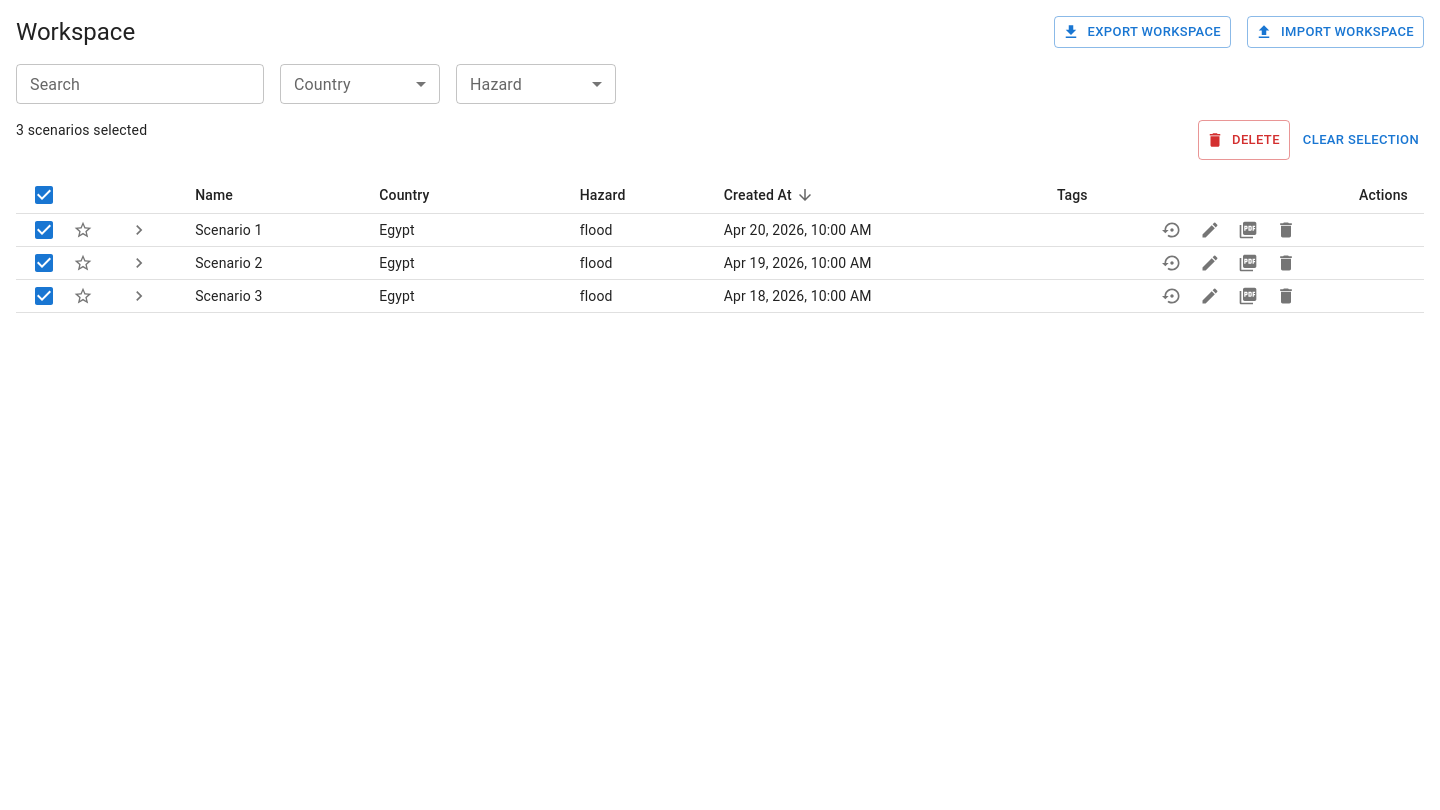
Test: Workspace bulk delete › cancel closes the dialog without firing any deletes
Click the button with aria-label "bulk-delete-open" at (1244, 140), box [1198,120,1290,160]
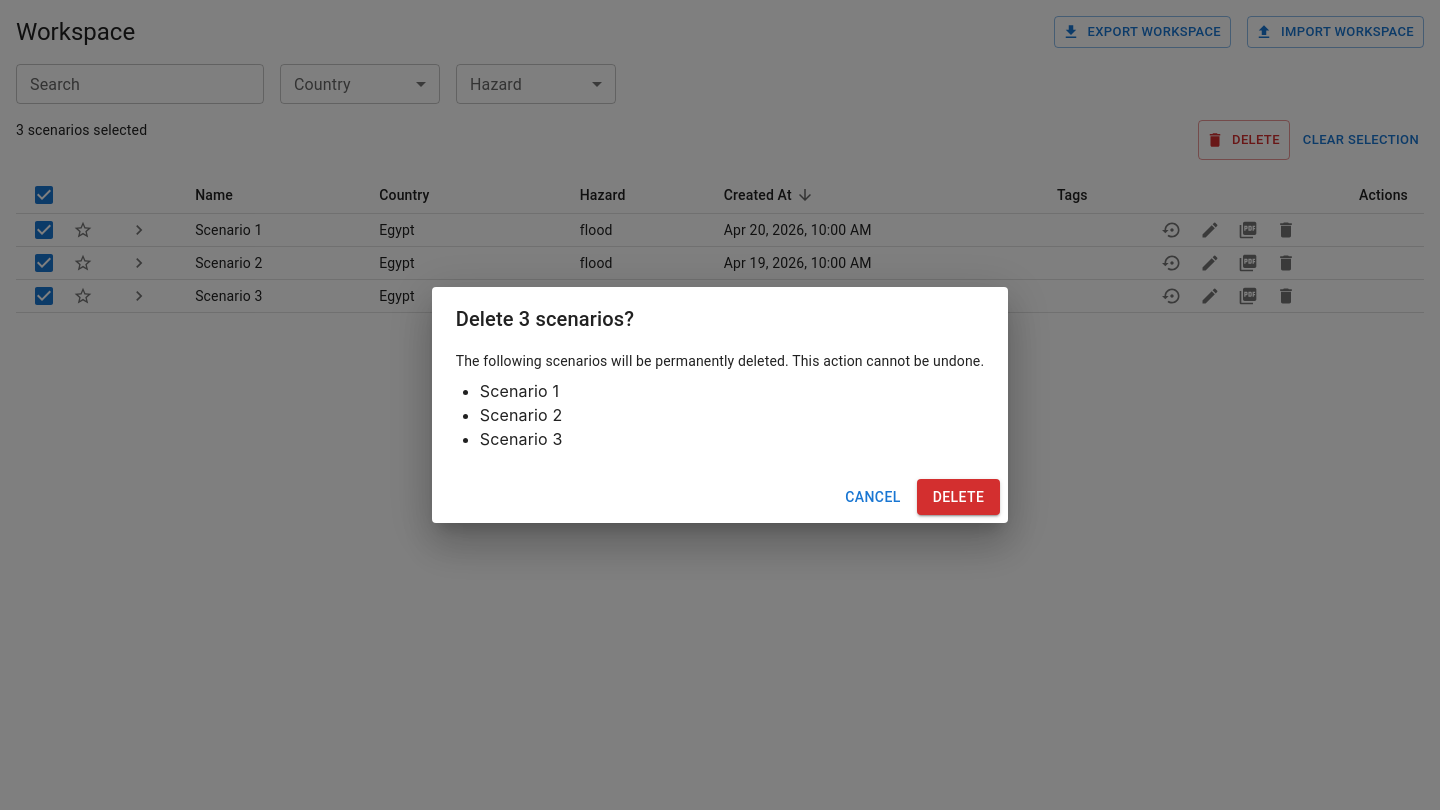
Result: the dialog is shown at [432,287,1008,523]
Click the button "Cancel" at (873, 497), box [837,479,909,515]
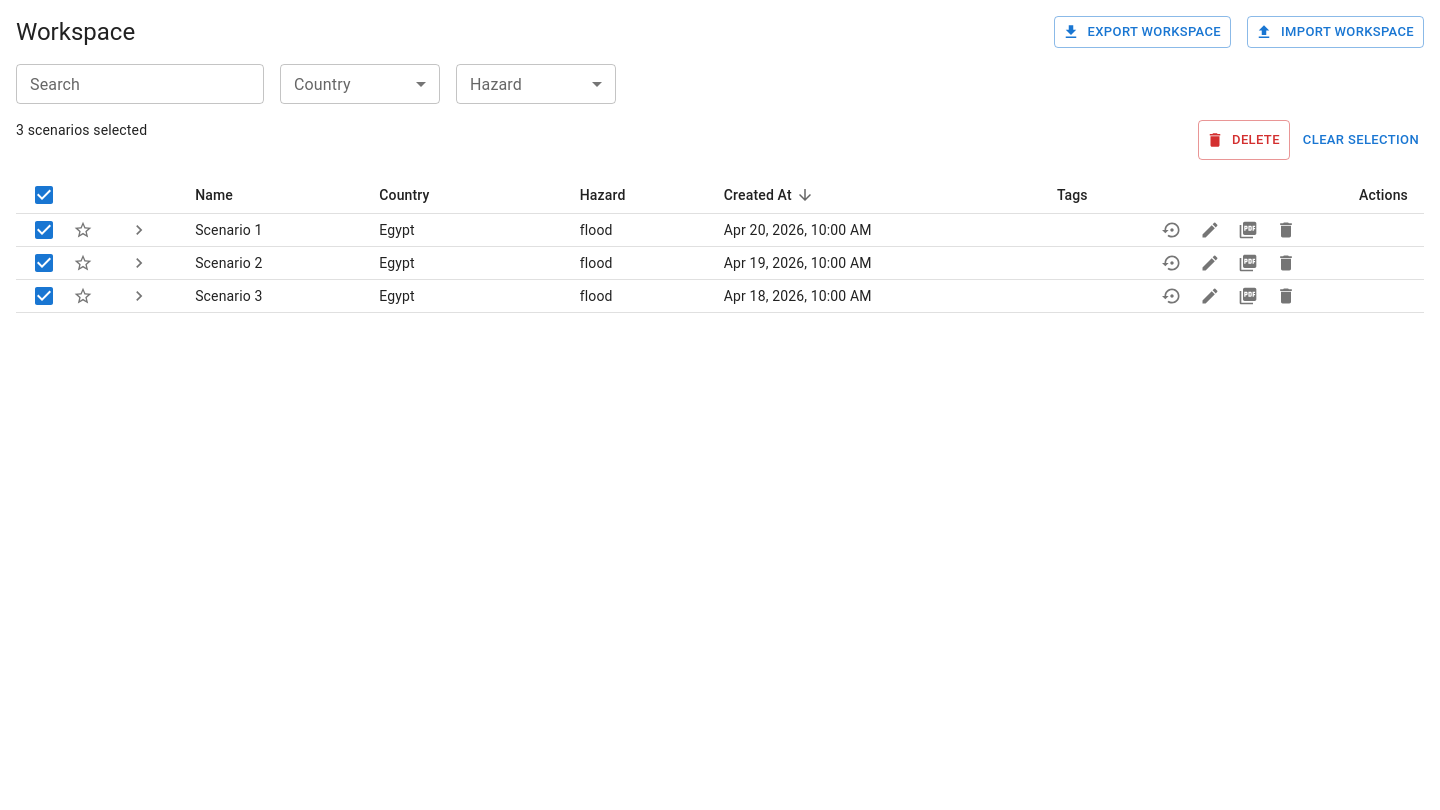
Result: the dialog is gone
